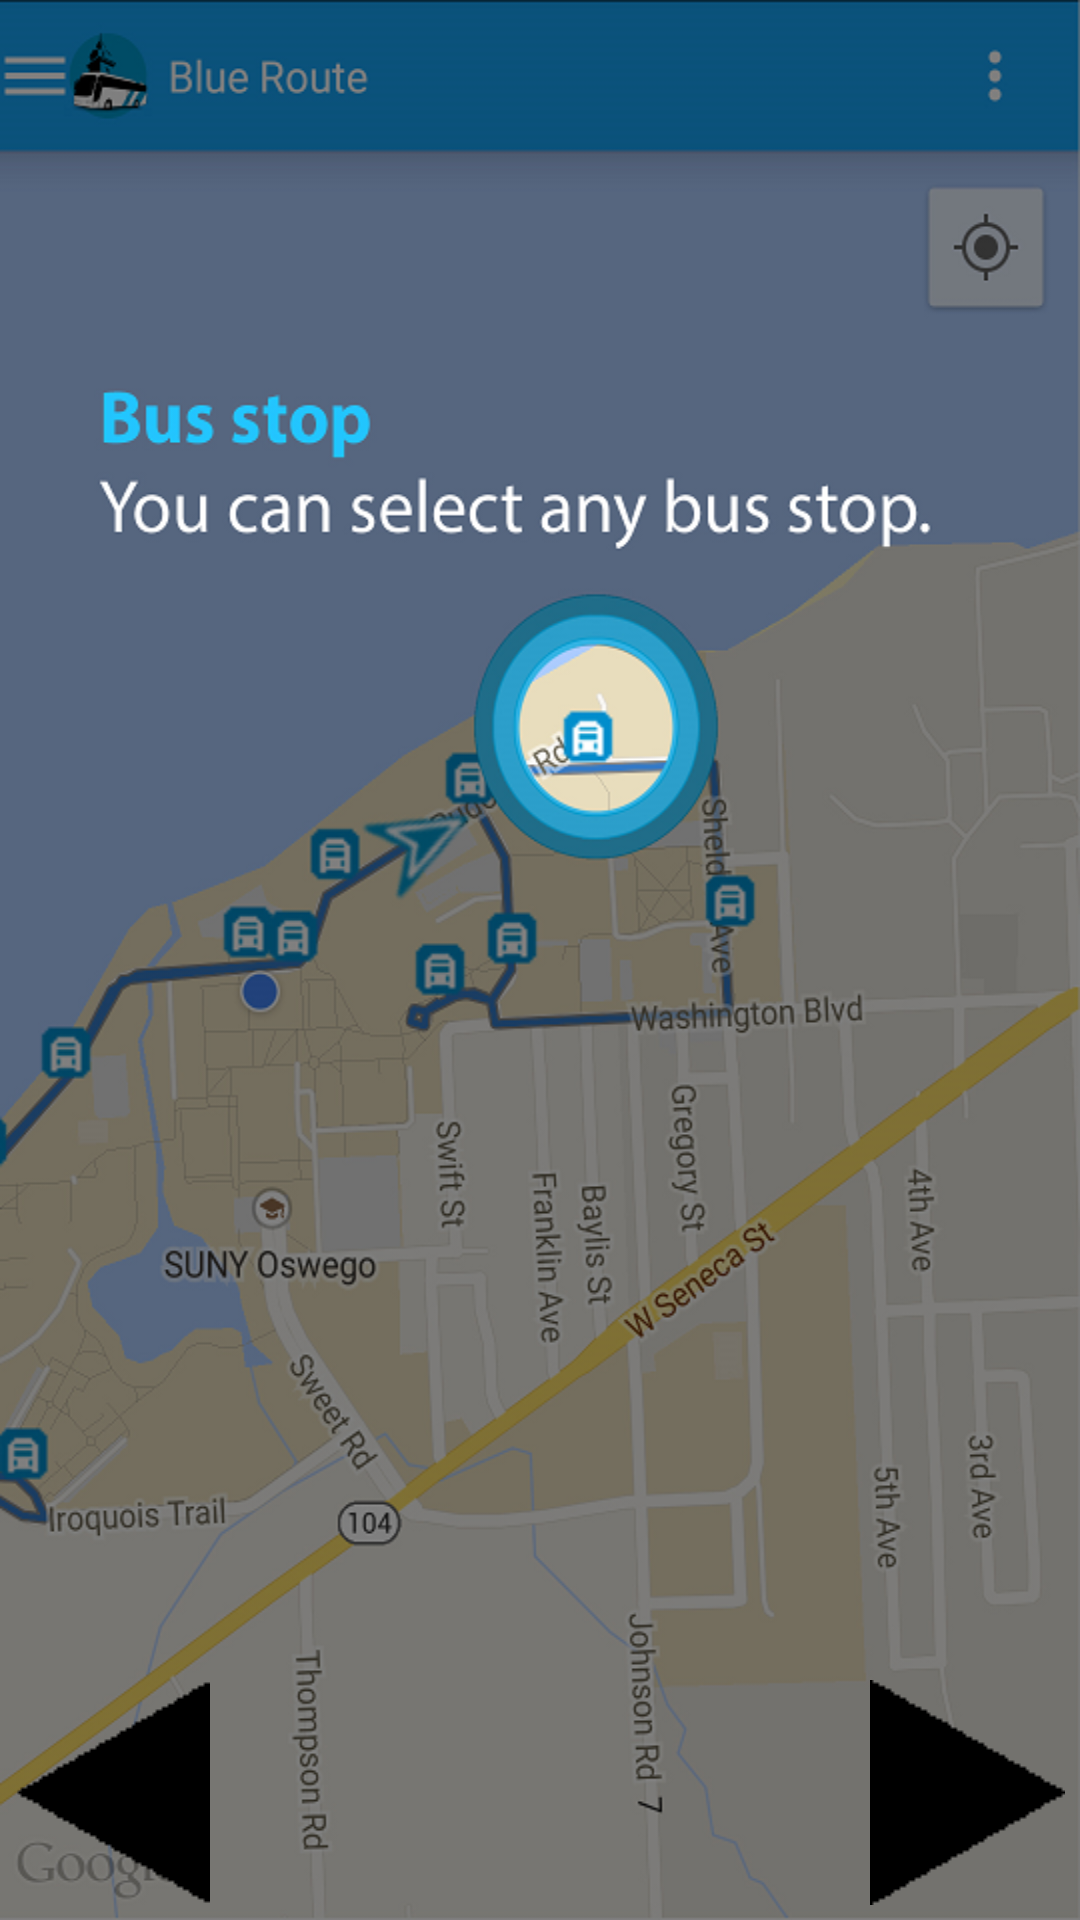

Named icons in this screenshot (1080 x 1920) and their bounding boxes, (x1, y1, x2, y2):
next: (870, 1680, 1065, 1905)
